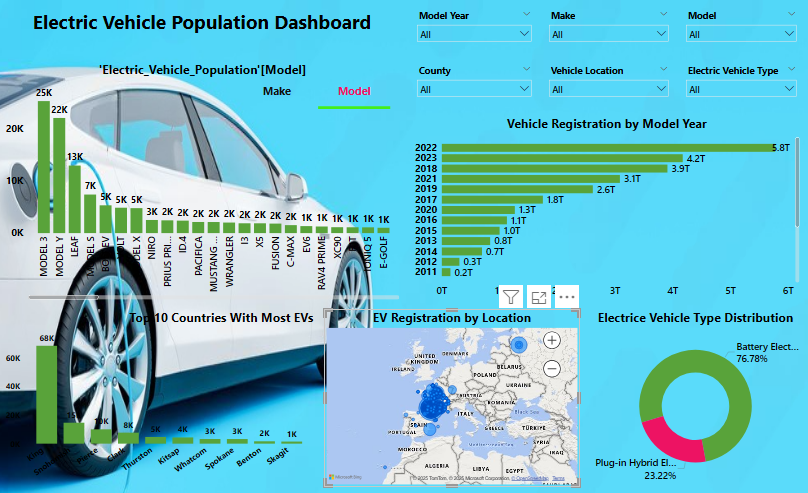

What the dashboard file says about the page in this screenshot:
{"tool":"powerbi","page":{"name":"EV Dashboard","canvas":[1600,1000],"ordinal":0},"visuals":[{"type":"barChart","title":"Vehicle Registration by Model  Year","fields":{"Category":["Electric_Vehicle_Population_Dat.Model Year"],"Y":["Sum(Electric_Vehicle_Population_Dat.DOL Vehicle ID)"]},"box":[817.6,223.5,764.7,372.5],"z":0},{"type":"map","title":"EV Registration by Location","fields":{"Category":["Electric_Vehicle_Population_Dat.Vehicle Location"],"Size":["Sum(Electric_Vehicle_Population_Dat.DOL Vehicle ID)"]},"box":[645.1,609.8,502,349],"z":1000},{"type":"columnChart","title":" Top 10 Countries With Most EVs ","fields":{"Category":["Electric_Vehicle_Population_Dat.County"],"Y":["CountNonNull(Electric_Vehicle_Population_Dat.DOL Vehicle ID)"]},"box":[15.7,609.8,613.7,349],"z":2000},{"type":"columnChart","fields":{"Category":["Electric_Vehicle_Population.Model"],"Y":["CountNonNull(Electric_Vehicle_Population_Dat.Model)"]},"box":[15.7,123.5,782.4,472.5],"z":3000},{"type":"advancedSlicerVisual","fields":{"Values":["Prmmetricswitch.Prmmetricswitch"]},"box":[476.5,139.2,305.9,84.3],"z":4000},{"type":"donutChart","title":"Electrice Vehicle Type Distribution","fields":{"Category":["Electric_Vehicle_Population.Electric Vehicle Type"],"Y":["CountNonNull(Electric_Vehicle_Population.DOL Vehicle ID)"]},"box":[1164.7,609.8,417.6,349],"z":5000},{"type":"textbox","box":[13.7,15.7,784.3,94.1],"z":6000},{"type":"slicer","fields":{"Values":["Electric_Vehicle_Population.Model Year"]},"box":[817.6,15.7,245.1,94.1],"z":7000},{"type":"slicer","fields":{"Values":["Electric_Vehicle_Population.Make"]},"box":[1076.5,15.7,254.9,94.1],"z":8000},{"type":"slicer","fields":{"Values":["Electric_Vehicle_Population.Model"]},"box":[1345.1,15.7,237.3,94.1],"z":9000},{"type":"slicer","fields":{"Values":["Electric_Vehicle_Population.County"]},"box":[817.6,123.5,245.1,84.3],"z":10000},{"type":"slicer","fields":{"Values":["Electric_Vehicle_Population.Vehicle Location"]},"box":[1076.5,123.5,254.9,84.3],"z":11000},{"type":"slicer","fields":{"Values":["Electric_Vehicle_Population.Electric Vehicle Type"]},"box":[1345.1,123.5,237.3,84.3],"z":12000}]}

Visuals, with their boxes in screenshot pixels (x1, y1, x2, y2), scaled from the page's 1600x1000 canvas onto the 808x493 screenshot:
"Vehicle Registration by Model  Year" barChart: [413,110,799,294]
"EV Registration by Location" map: [326,301,579,473]
" Top 10 Countries With Most EVs " columnChart: [8,301,318,473]
columnChart - Electric_Vehicle_Population.Model x CountNonNull(Electric_Vehicle_Population_Dat.Model): [8,61,403,294]
advancedSlicerVisual - Prmmetricswitch.Prmmetricswitch: [241,69,395,110]
"Electrice Vehicle Type Distribution" donutChart: [588,301,799,473]
textbox: [7,8,403,54]
slicer - Electric_Vehicle_Population.Model Year: [413,8,537,54]
slicer - Electric_Vehicle_Population.Make: [544,8,672,54]
slicer - Electric_Vehicle_Population.Model: [679,8,799,54]
slicer - Electric_Vehicle_Population.County: [413,61,537,102]
slicer - Electric_Vehicle_Population.Vehicle Location: [544,61,672,102]
slicer - Electric_Vehicle_Population.Electric Vehicle Type: [679,61,799,102]
